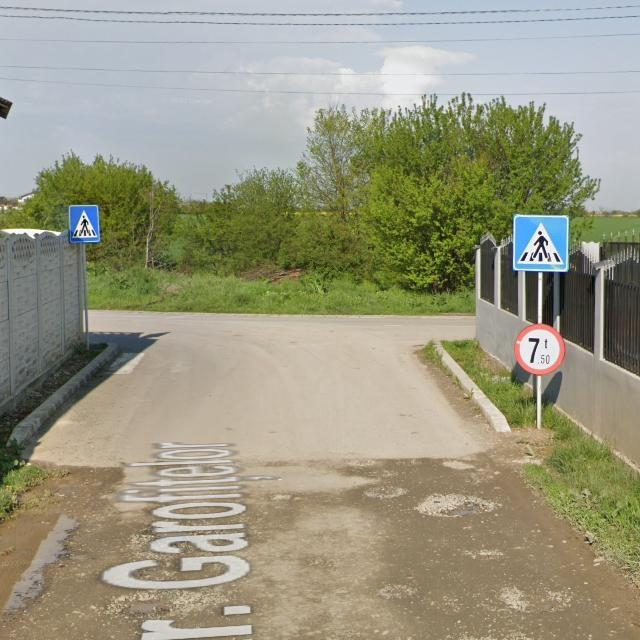info_crosswalk: (512, 215, 570, 273), (69, 204, 101, 243)
